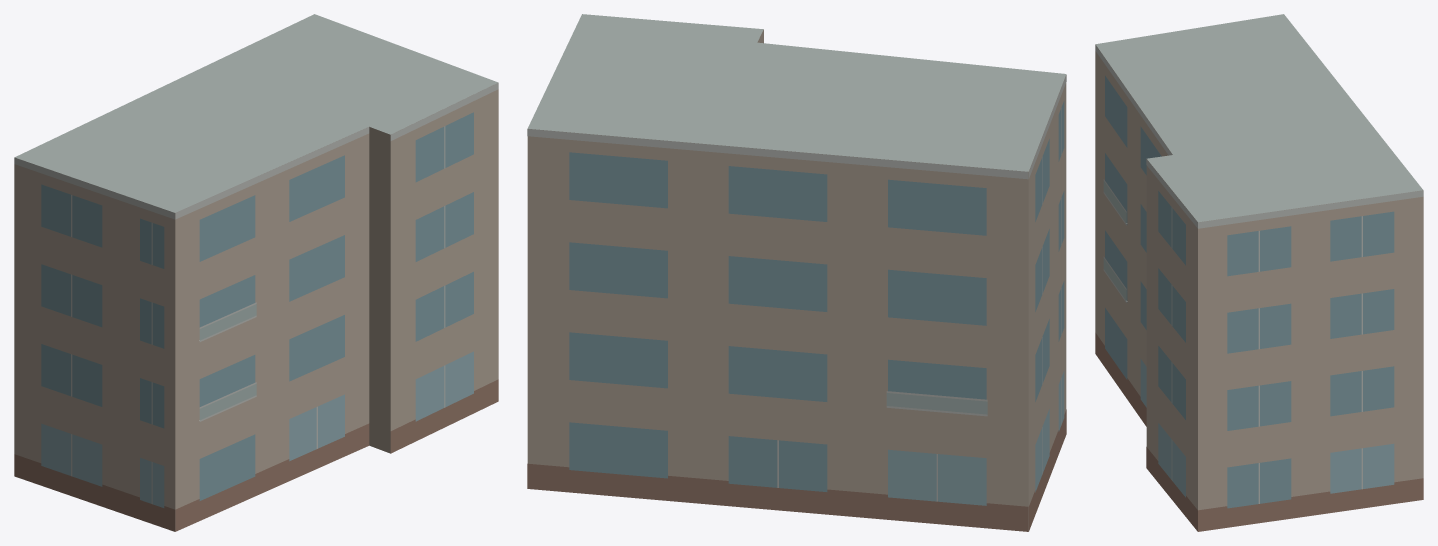
Rendered from survey-upis-32548831.glb.
3 renders of one model, left to right at view 1: azimuth 30°, elevation 25°; view 2: azimuth 150°, elevation 25°; view 3: azimuth 270°, elevation 25°, orthographic. The views are drawn at different scales.
Visible parts, largest first — view 1: survey-upis-32548831.tmp; view 2: survey-upis-32548831.tmp; view 3: survey-upis-32548831.tmp.
Part boxes in pixels (x1,y1,x2,y2): survey-upis-32548831.tmp: (14,14,498,531); survey-upis-32548831.tmp: (527,14,1066,531); survey-upis-32548831.tmp: (1095,14,1423,531).
Bounding box in the file's own units: 16.9 × 11.7 × 11.25.
